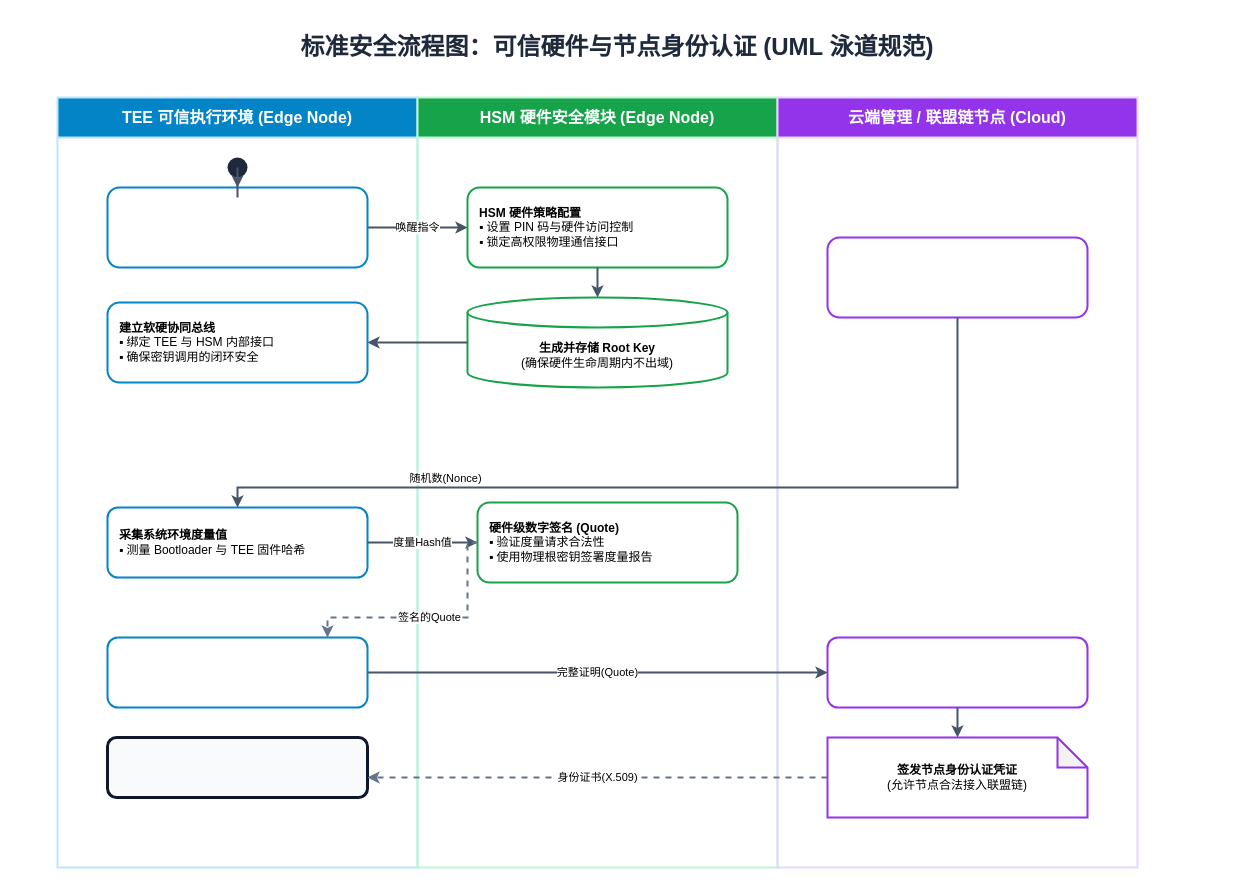
Some shapes in this 1234 by 885 pixel diagram are drawn without their labels. The shapes that lost their labels are listed below. From the top down, each one's box as (x1, y1, x2, y2) in pixels, then its label:
(106, 186, 368, 268): TEE 安全环境初始化 ▪ 划分 TrustZone 安全域 ▪ 初始化底层密码学算法库
(826, 236, 1088, 318): 下发远端验证挑战 ▪ 管理节点发起入网查验 ▪ 生成防重放攻击随机数(Nonce)
(106, 636, 368, 708): 组装远程证明请求 ▪ 封装签名 Quote 向云端发起认证
(826, 636, 1088, 708): 校验硬件合法性与完整性 ▪ 验证 HSM 厂商证书与状态哈希
(106, 736, 368, 798): 身份构建完成，服务就绪
